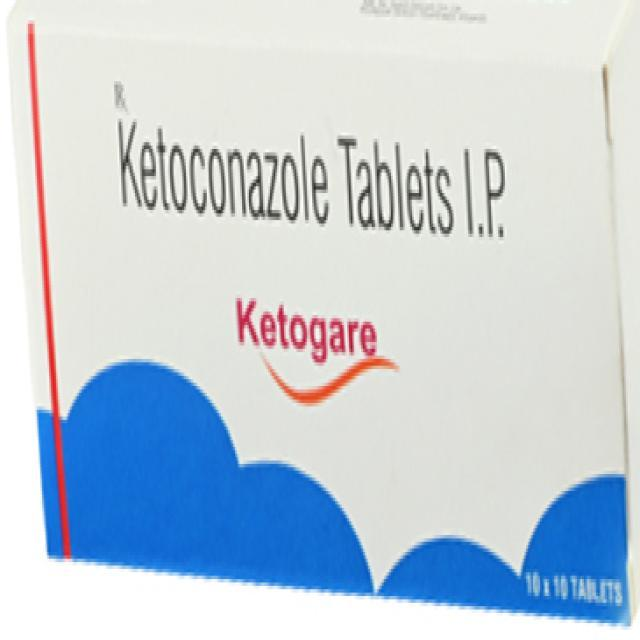drug-name: (224, 296, 418, 405)
